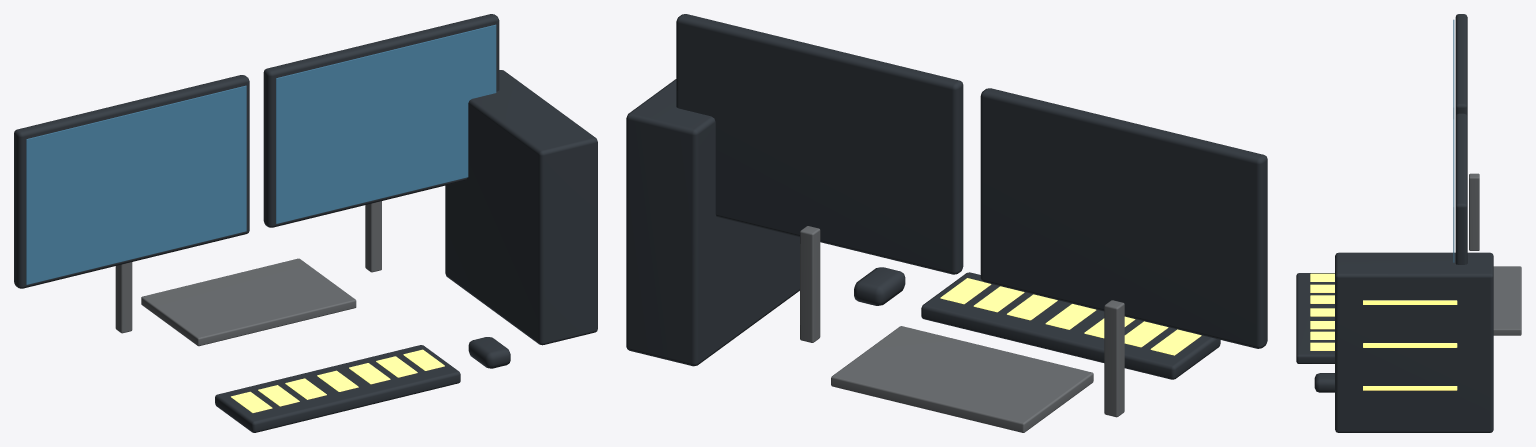
Rendered from gaming-setup.glb.
3 views of the same model, side by side, from view 1: azimuth 30°, elevation 25°; view 2: azimuth 150°, elevation 25°; view 3: azimuth 270°, elevation 25° (orthographic). The views are drawn at different scales.
Visible parts, largest first — view 1: Monitor housing; view 2: Monitor housing; view 3: Monitor housing.
Boxes of the visible parts, x1,y1,x2,y2 form: Monitor housing: (14,14,597,432); Monitor housing: (626,14,1267,432); Monitor housing: (1296,14,1521,432).
Size of the model in its own units: 1.12 by 0.565 by 0.525.
